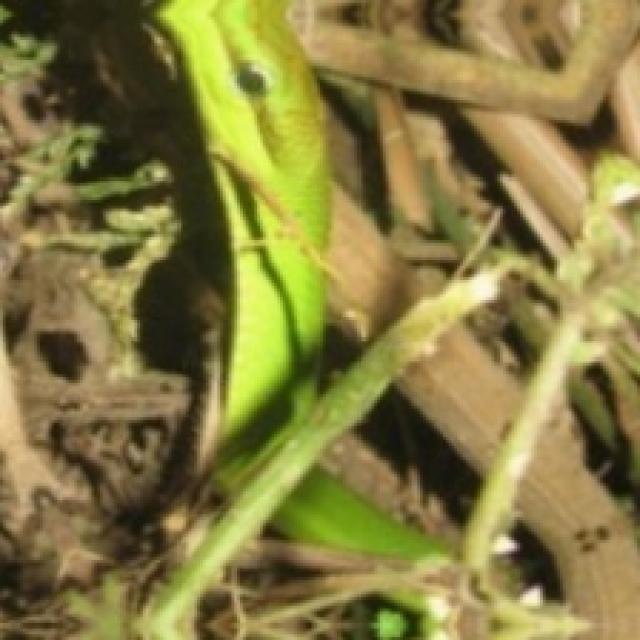red-tailed green ratsnake: (157, 0, 326, 480), (271, 468, 444, 559)
